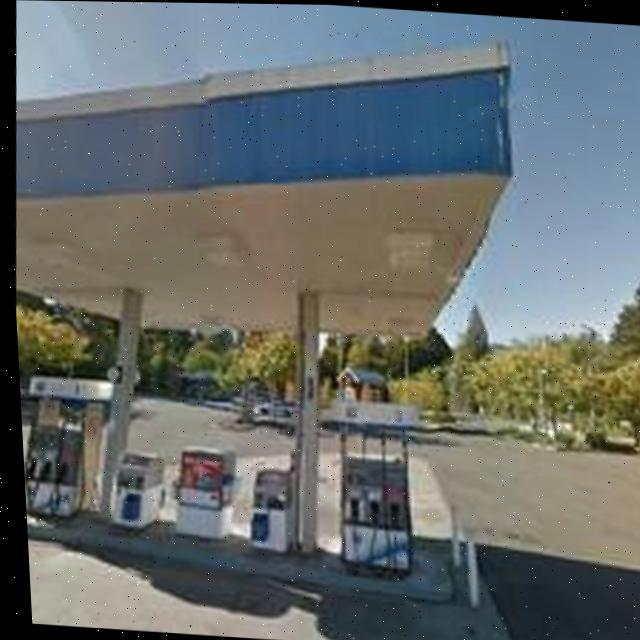building: (0, 4, 548, 596)
